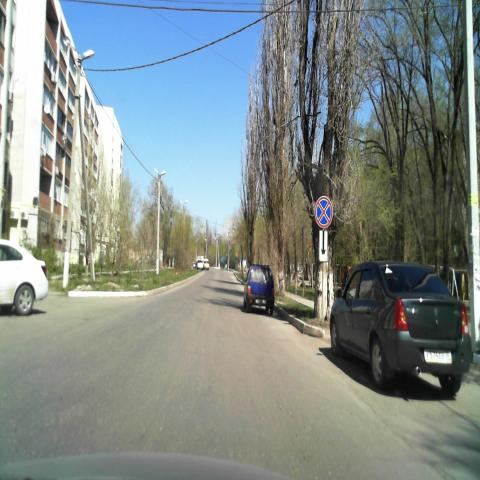3_27: (313, 195, 334, 229)
8_2_3: (318, 229, 328, 260)
